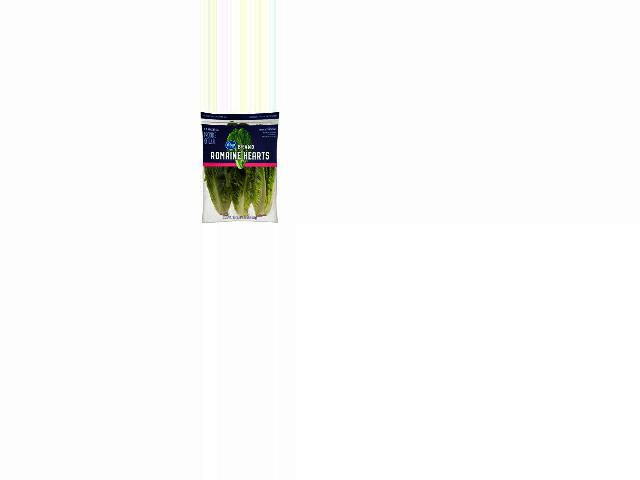lettuce: (197, 114, 282, 219)
